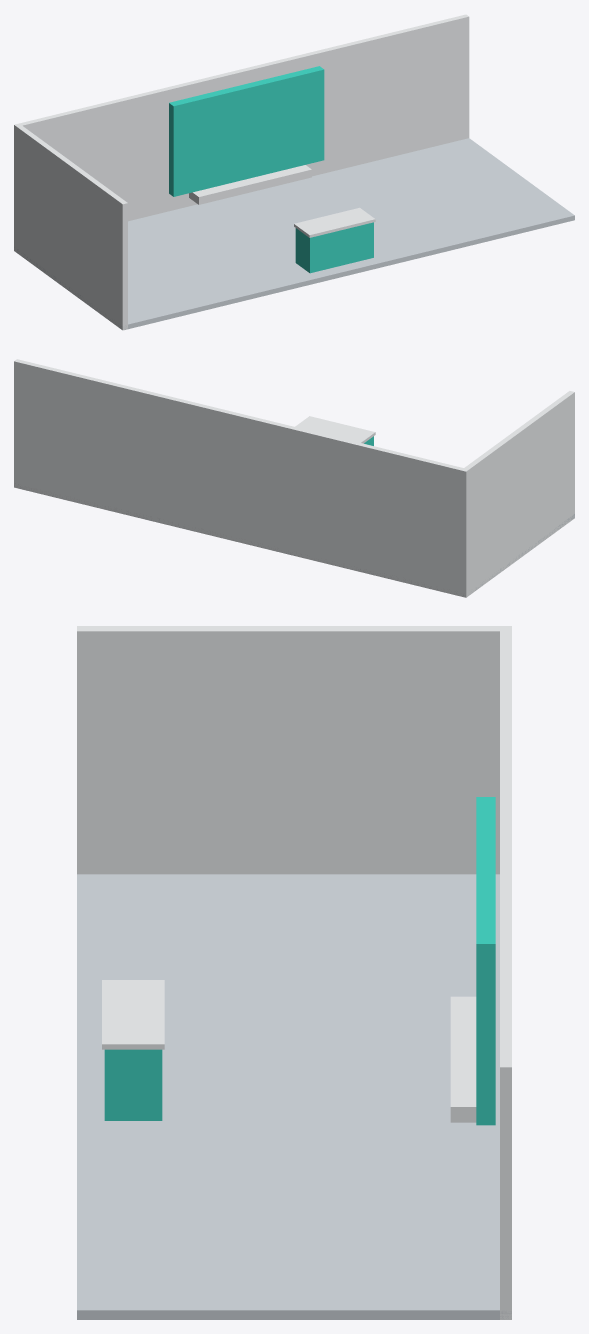
3 views of the same model, one above another, from view 1: azimuth 30°, elevation 25°; view 2: azimuth 150°, elevation 25°; view 3: azimuth 270°, elevation 25° (orthographic). The views are drawn at different scales.
Visible parts, largest first — view 1: Exhibition Booth Concept; view 2: Exhibition Booth Concept; view 3: Exhibition Booth Concept.
Boxes of the visible parts, bbox=[...] form: Exhibition Booth Concept: bbox=[14, 14, 574, 330]; Exhibition Booth Concept: bbox=[14, 359, 574, 597]; Exhibition Booth Concept: bbox=[77, 626, 511, 1319].
Bounding box in the file's own units: 12 × 3.2 × 5.
